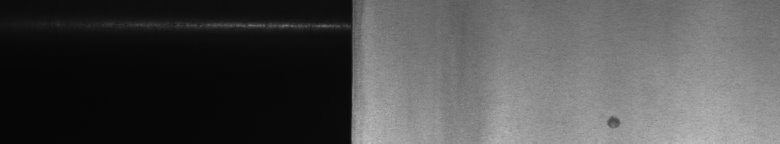fi: (603, 108, 624, 136)
